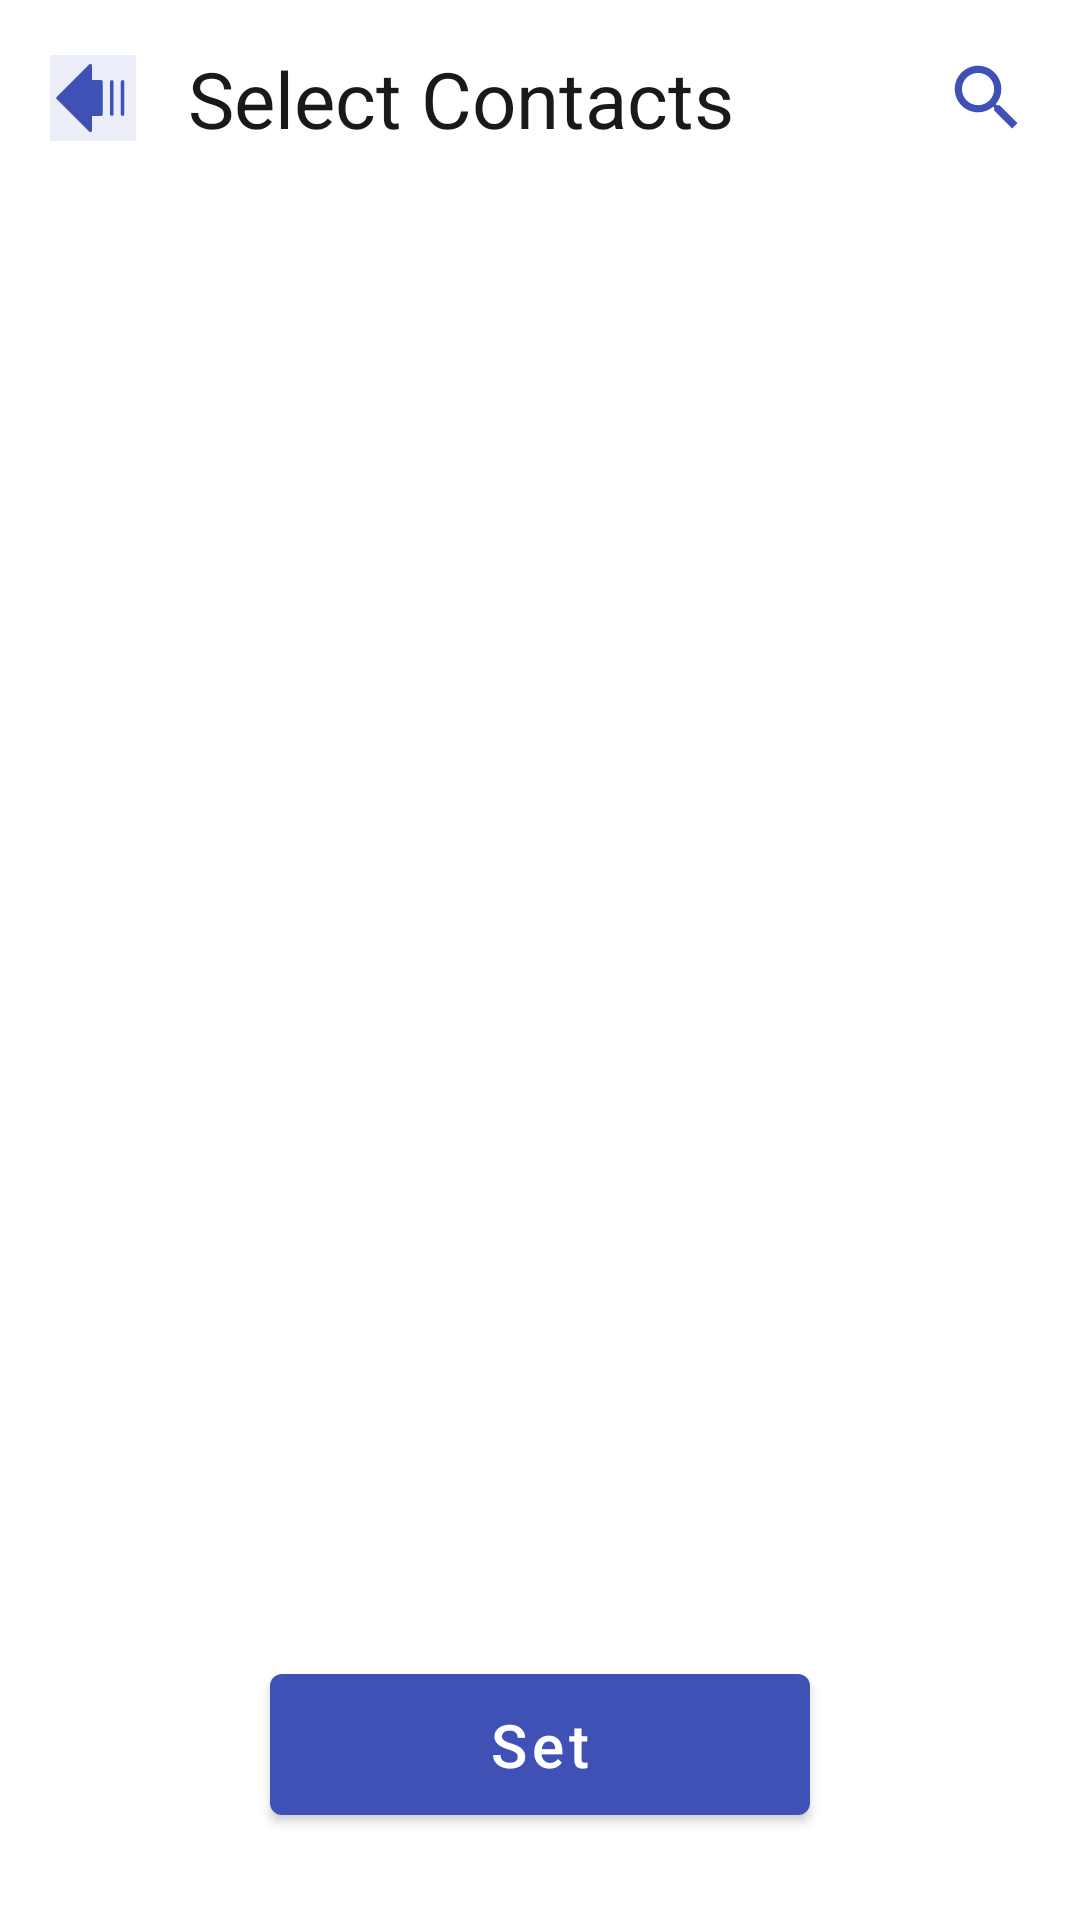

Icons on this 1080 × 1920 Android screen, each with the point to tap as point (x, y):
back: point (93, 98)
search: point (986, 97)
